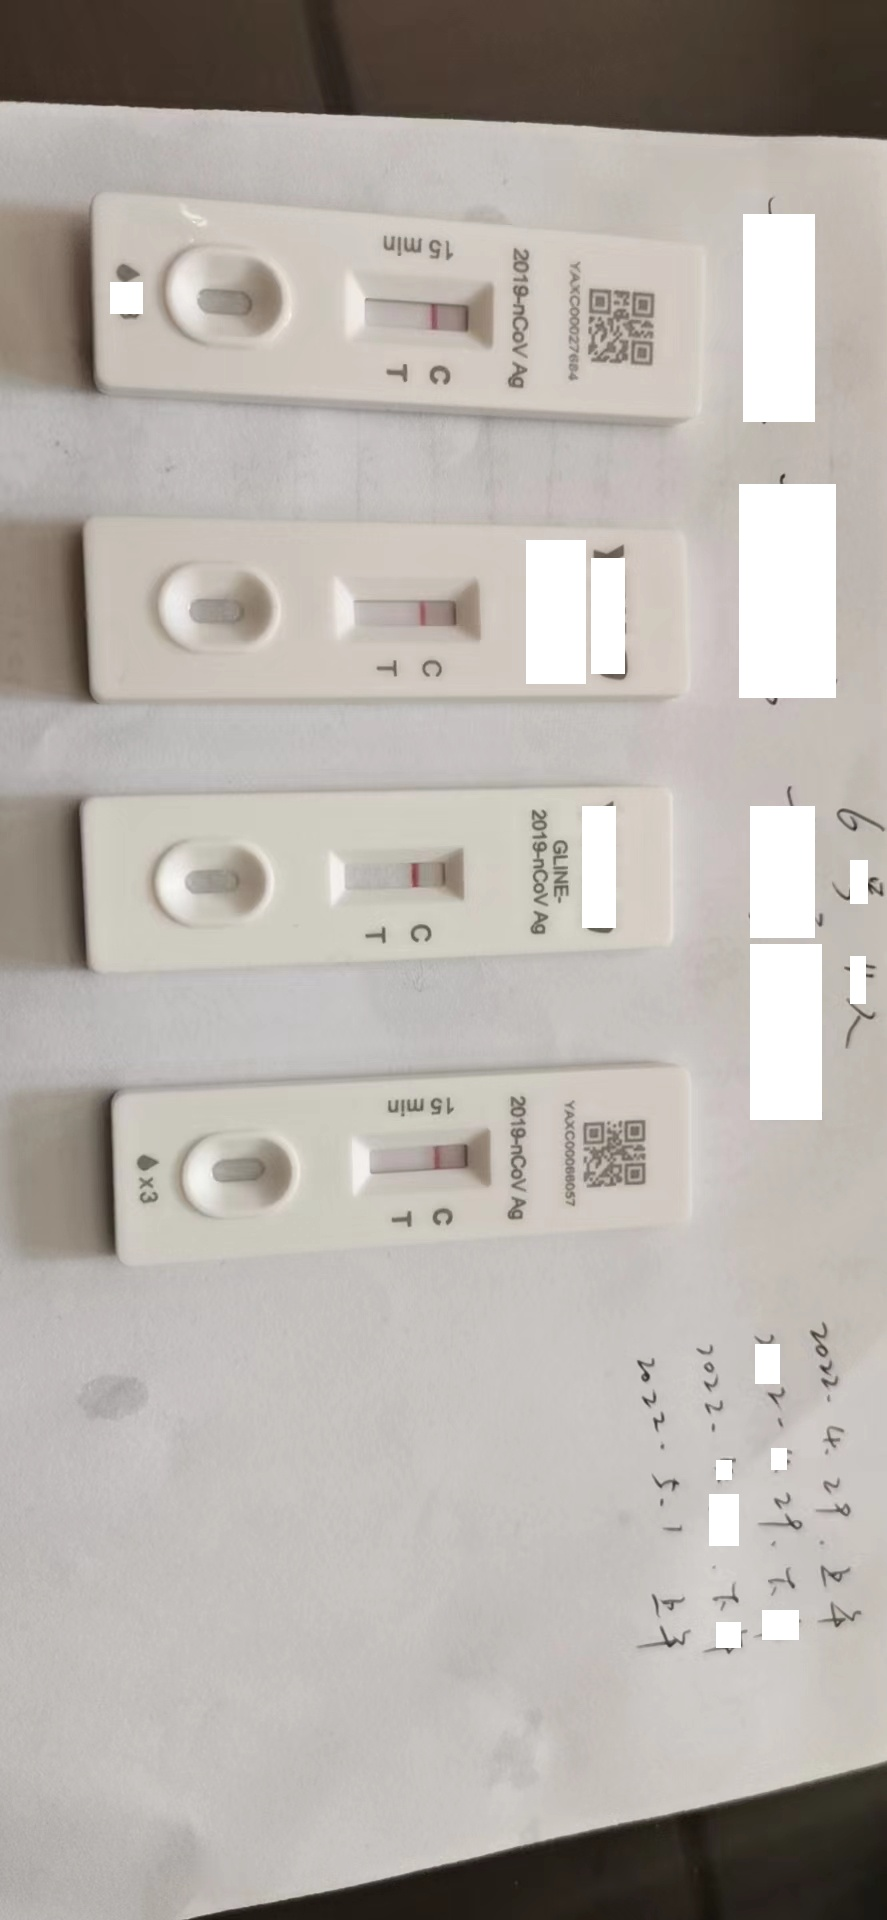negative: (348, 273, 497, 350), (333, 573, 488, 643), (352, 1127, 497, 1193), (330, 847, 470, 904)
